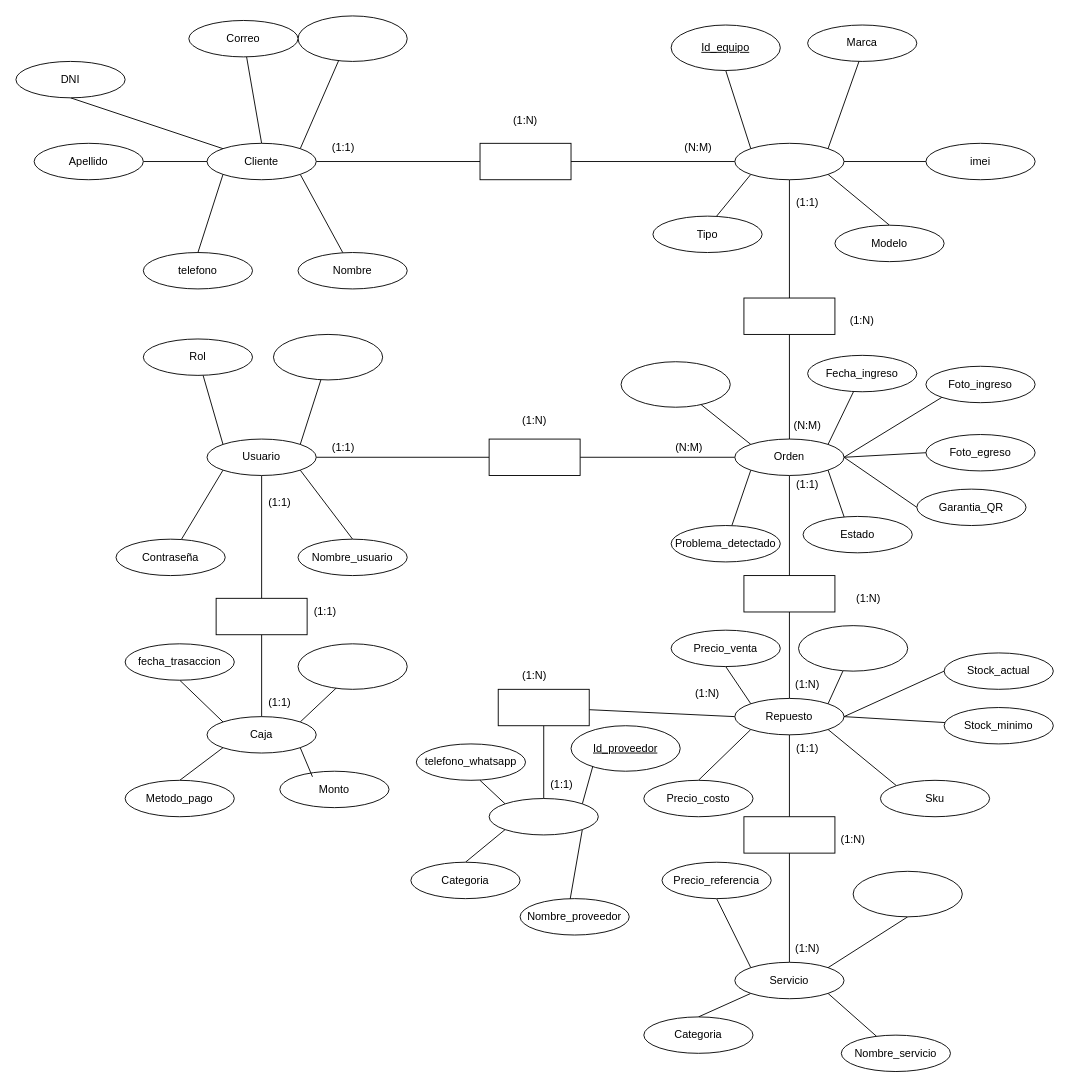
This 1069x1087 diagram has some shape labels left out. Here are the shapes that lost their labels. From the top down, the centre of each, then its label:
At [352,38]: "Id_cliente".
At [525,161]: "Tiene".
At [789,161]: "Equipo".
At [789,315]: "Genera".
At [328,357]: "Id_usuario".
At [675,384]: "id_orden".
At [534,456]: "Gestiona".
At [789,593]: "Utiliza".
At [261,616]: "Registra".
At [352,666]: "Id_transacciones".
At [853,648]: "id_repuesto".
At [543,707]: "Surte".
At [543,816]: "Proveedor".
At [789,834]: "Cataloga".
At [907,893]: "Id_servicio".
